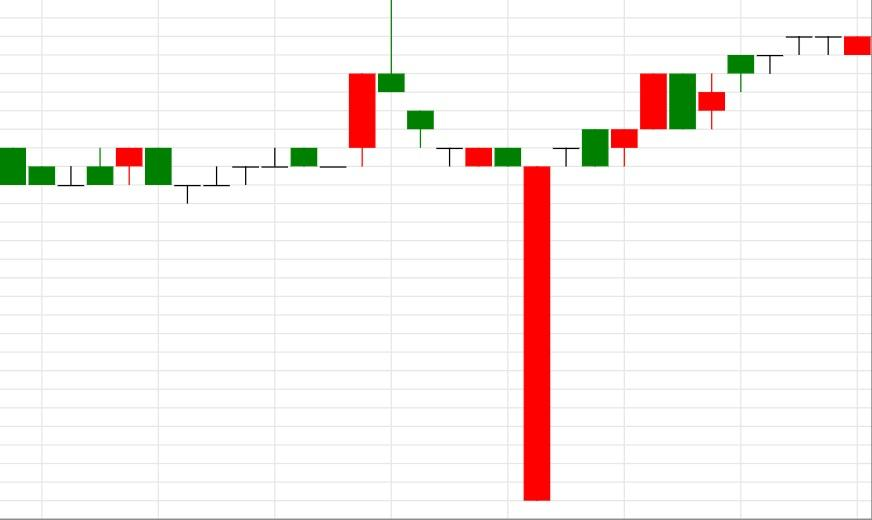shooting_star_fall: (174, 0, 407, 204)
